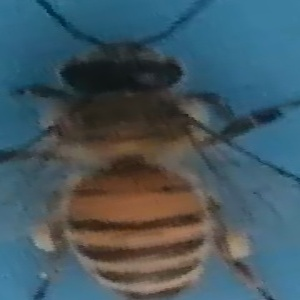bee: (17, 2, 282, 300)
